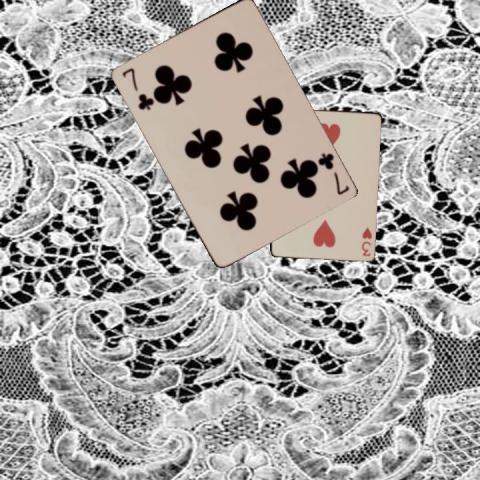3h: (359, 225, 373, 257)
7c: (314, 149, 350, 196), (119, 65, 153, 111)
